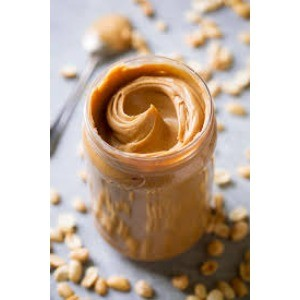peanut butter_brain food: (84, 61, 211, 257)
